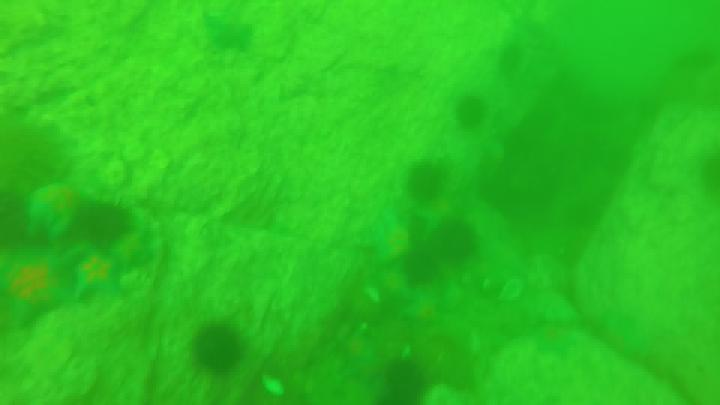echinus: (74, 204, 129, 252), (192, 324, 246, 371), (379, 360, 431, 405), (432, 219, 473, 262), (406, 164, 447, 204), (397, 254, 439, 283), (496, 47, 530, 78), (458, 100, 487, 124)
scallop: (497, 279, 524, 303), (261, 373, 285, 397)
starfish: (4, 251, 75, 319), (69, 253, 132, 302), (206, 11, 251, 52)
